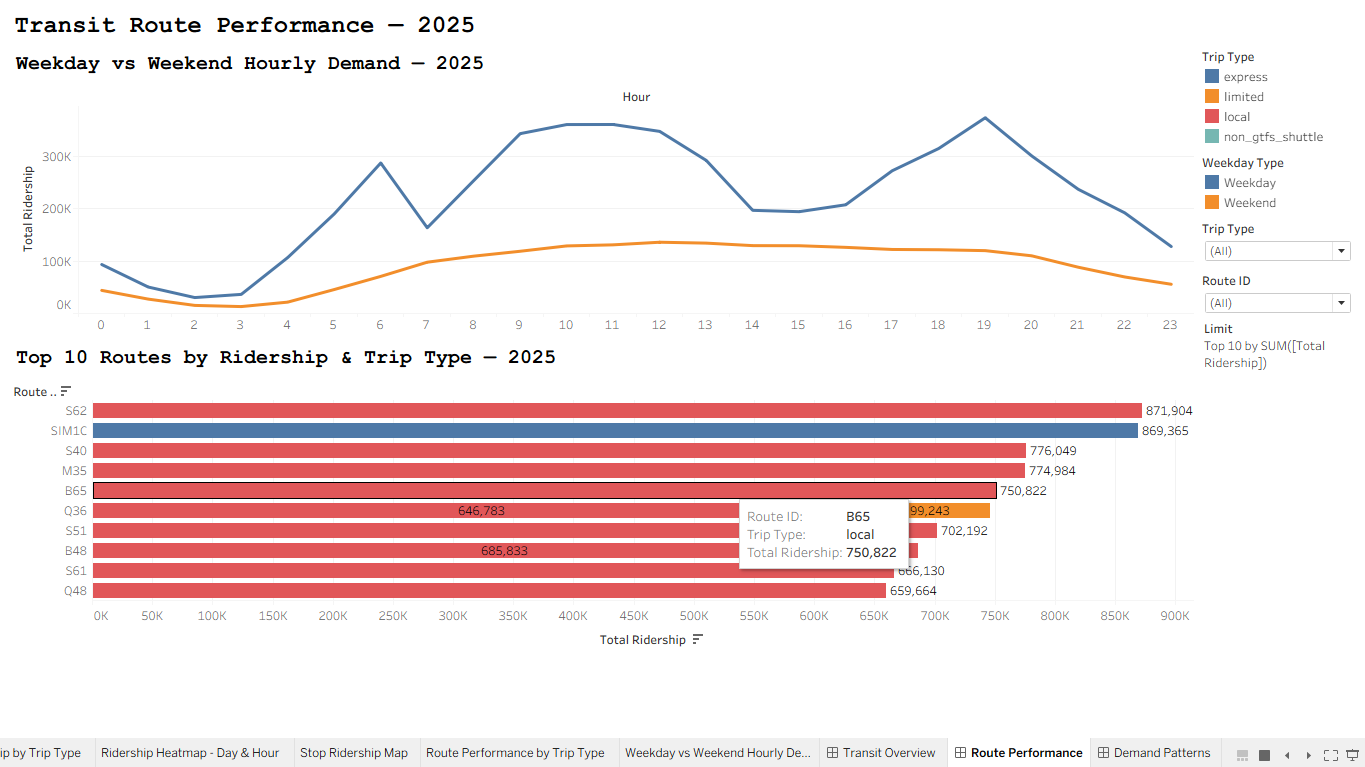

This screenshot's page, from the dashboard's own definition file:
{"tool":"tableau","page":{"name":"Route Performance","canvas":[1000,1000],"units":"permille","ordinal":1},"visuals":[{"type":"title","box":[6.9,12.7,986.1,57]},{"type":"worksheet","title":"Weekday vs Weekend Hourly Demand","mark":"Line","rows":["total_ridership"],"cols":["Hour"],"box":[6.9,69.6,847.6,393.3]},{"type":"legend","title":"Route Performance by Trip Type","param":"[federated.11br26r1duuwqi1gbfq6r0n5chgm].[none:Trip Type:nk]","box":[854.5,69.6,138.5,167.7]},{"type":"legend","title":"Weekday vs Weekend Hourly Demand","param":"[federated.11br26r1duuwqi1gbfq6r0n5chgm].[none:Calculation_2224038827675650:nk]","box":[854.5,237.3,138.5,104.4]},{"type":"filter","title":"Route Performance by Trip Type","param":"[federated.11br26r1duuwqi1gbfq6r0n5chgm].[none:Trip Type:nk]","box":[854.5,341.8,138.5,82.3]},{"type":"filter","title":"Route Performance by Trip Type","param":"[federated.11br26r1duuwqi1gbfq6r0n5chgm].[none:Route ID:nk]","box":[854.5,424.1,138.5,175.6]},{"type":"worksheet","title":"Route Performance by Trip Type","mark":"Bar","rows":["Route ID"],"cols":["total_ridership"],"box":[6.9,462.9,847.6,524.4]}]}

Visuals, with their boxes on the dashboard's canvas, which has no fixed pixel size, in thousandths of its width and height (x1, y1, x2, y2). These are canvas units, not pixel positions in the 1365x767 screenshot, which may show the page scaled, cropped or inside an application window:
title: {"x1": 7, "y1": 13, "x2": 993, "y2": 70}
"Weekday vs Weekend Hourly Demand" worksheet (Line marks): {"x1": 7, "y1": 70, "x2": 854, "y2": 463}
"Route Performance by Trip Type" legend: {"x1": 854, "y1": 70, "x2": 993, "y2": 237}
"Weekday vs Weekend Hourly Demand" legend: {"x1": 854, "y1": 237, "x2": 993, "y2": 342}
"Route Performance by Trip Type" filter: {"x1": 854, "y1": 342, "x2": 993, "y2": 424}
"Route Performance by Trip Type" filter: {"x1": 854, "y1": 424, "x2": 993, "y2": 600}
"Route Performance by Trip Type" worksheet (Bar marks): {"x1": 7, "y1": 463, "x2": 854, "y2": 987}
